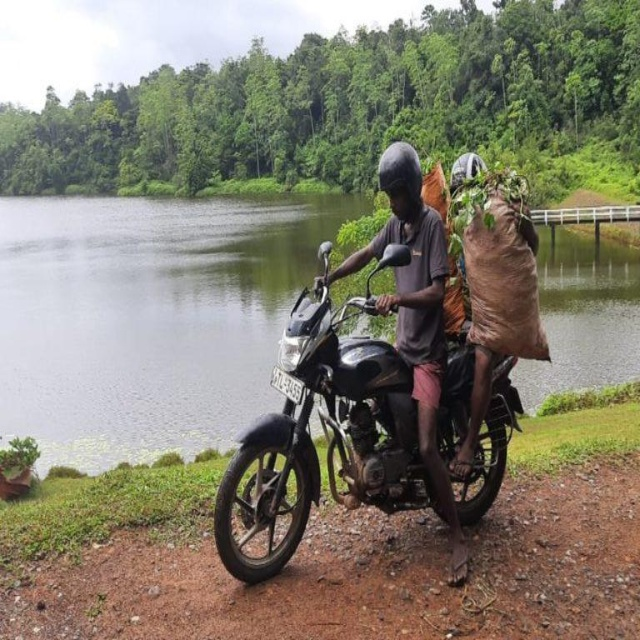Motorcycle: (214, 239, 524, 584)
